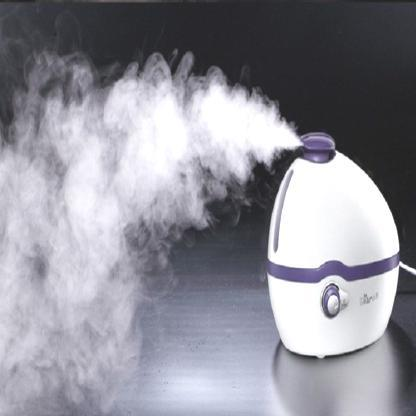smoke: (0, 72, 155, 416), (159, 76, 263, 214)
